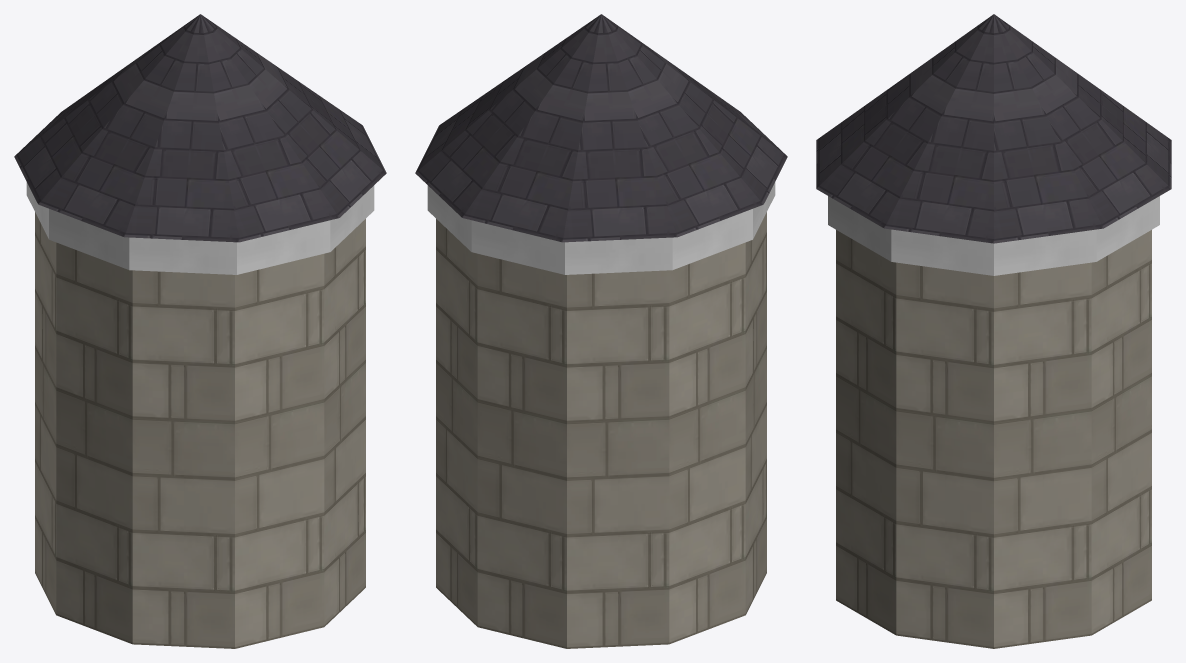
File: tower.wallet.t2.glb
3 views of the same model, side by side, from view 1: azimuth 30°, elevation 25°; view 2: azimuth 150°, elevation 25°; view 3: azimuth 270°, elevation 25° (orthographic).
Visible parts, largest first — view 1: castle.tower.wallet.t2; view 2: castle.tower.wallet.t2; view 3: castle.tower.wallet.t2.
Part boxes in pixels (x1,y1,x2,y2): castle.tower.wallet.t2: (14,14,386,648); castle.tower.wallet.t2: (415,14,787,648); castle.tower.wallet.t2: (816,14,1171,648).
Bounding box in the file's own units: 1.8 × 3 × 1.71.
3 materials, 3 textured.
